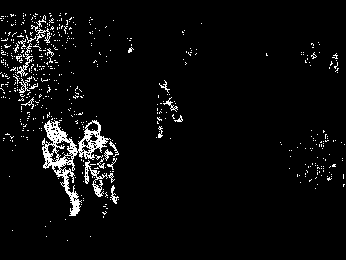person: (81, 118, 122, 215), (41, 119, 79, 218)
